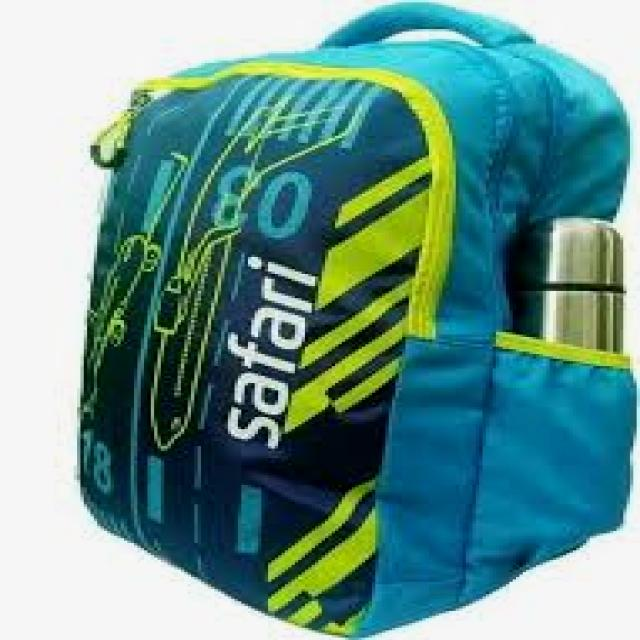backpack: (75, 1, 638, 639)
